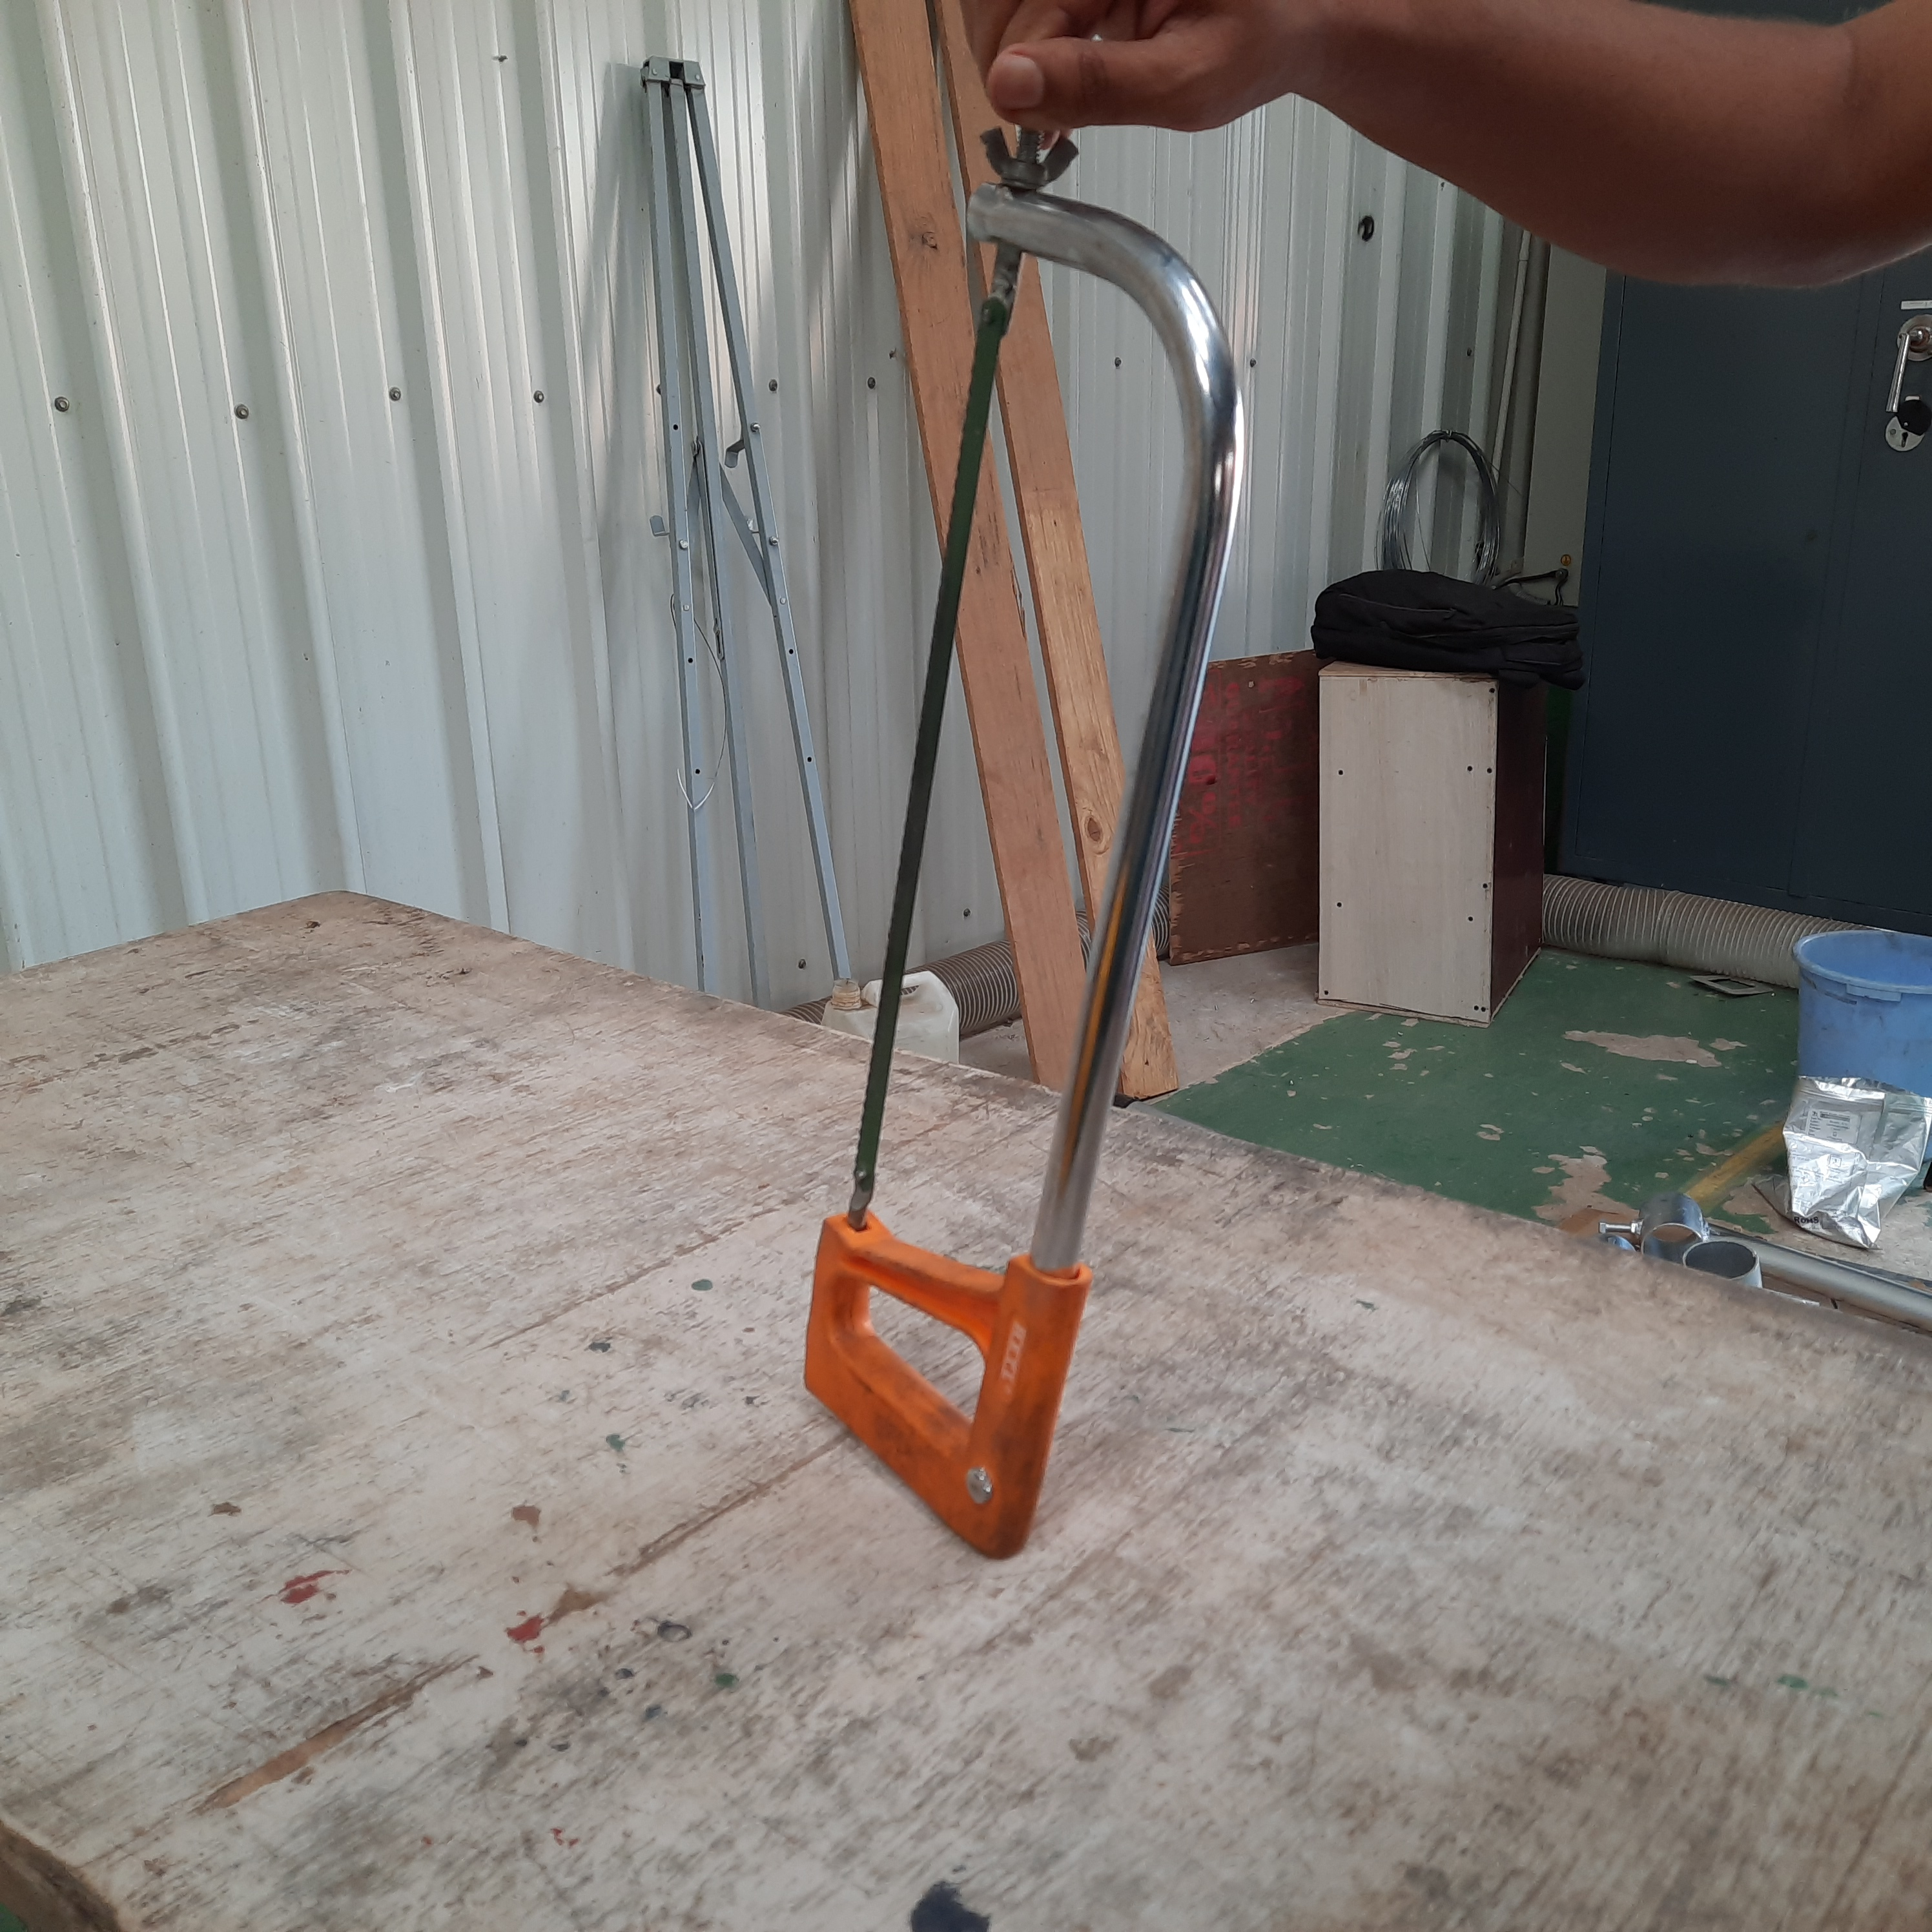Hexaframe: (780, 138, 1244, 1555)
